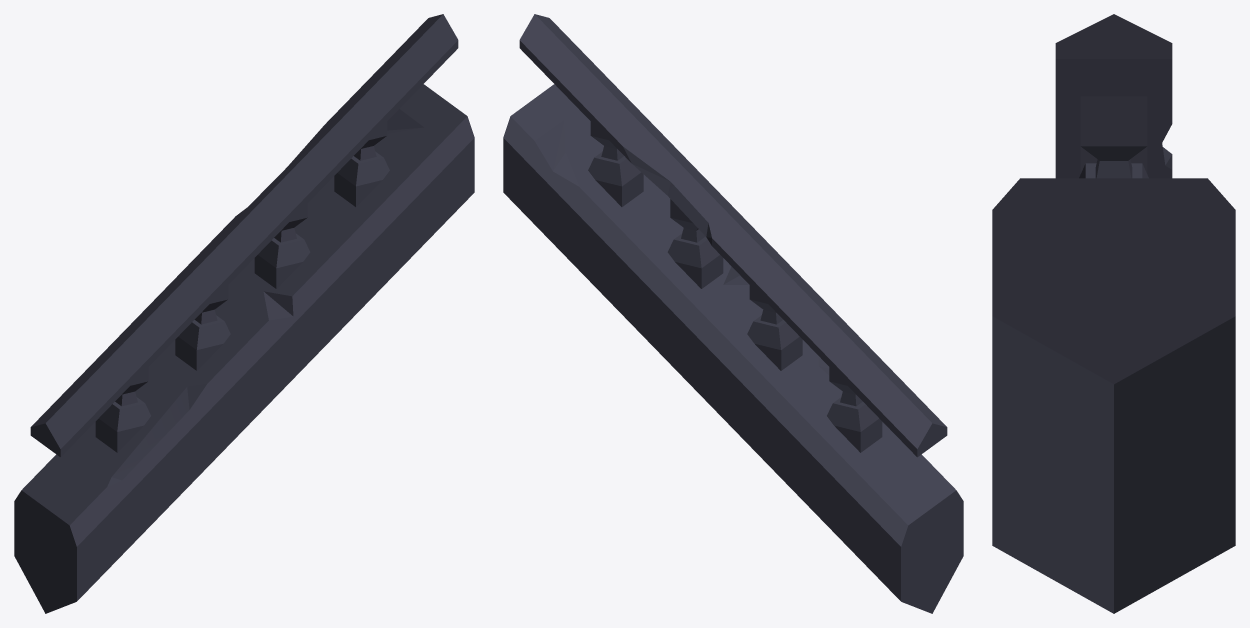
The model's file is Railing_Stairs.fbx.
3 renders of one model, left to right at view 1: azimuth 30°, elevation 25°; view 2: azimuth 150°, elevation 25°; view 3: azimuth 270°, elevation 25°, orthographic. The views are drawn at different scales.
Parts seen in each view (by area): view 1: 1-Stairs_Railing; view 2: 1-Stairs_Railing; view 3: 1-Stairs_Railing.
Part boxes in pixels (box(x1,y1,x2,y2)): 1-Stairs_Railing: box(14, 14, 474, 613); 1-Stairs_Railing: box(503, 14, 963, 613); 1-Stairs_Railing: box(992, 14, 1235, 613).
Bounding box in the file's own units: 4 × 1.09 × 4.83.
